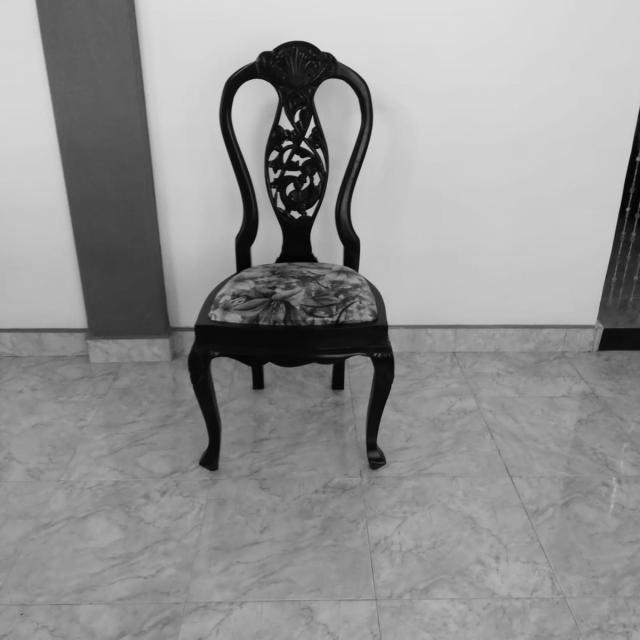chair: (190, 36, 398, 473)
